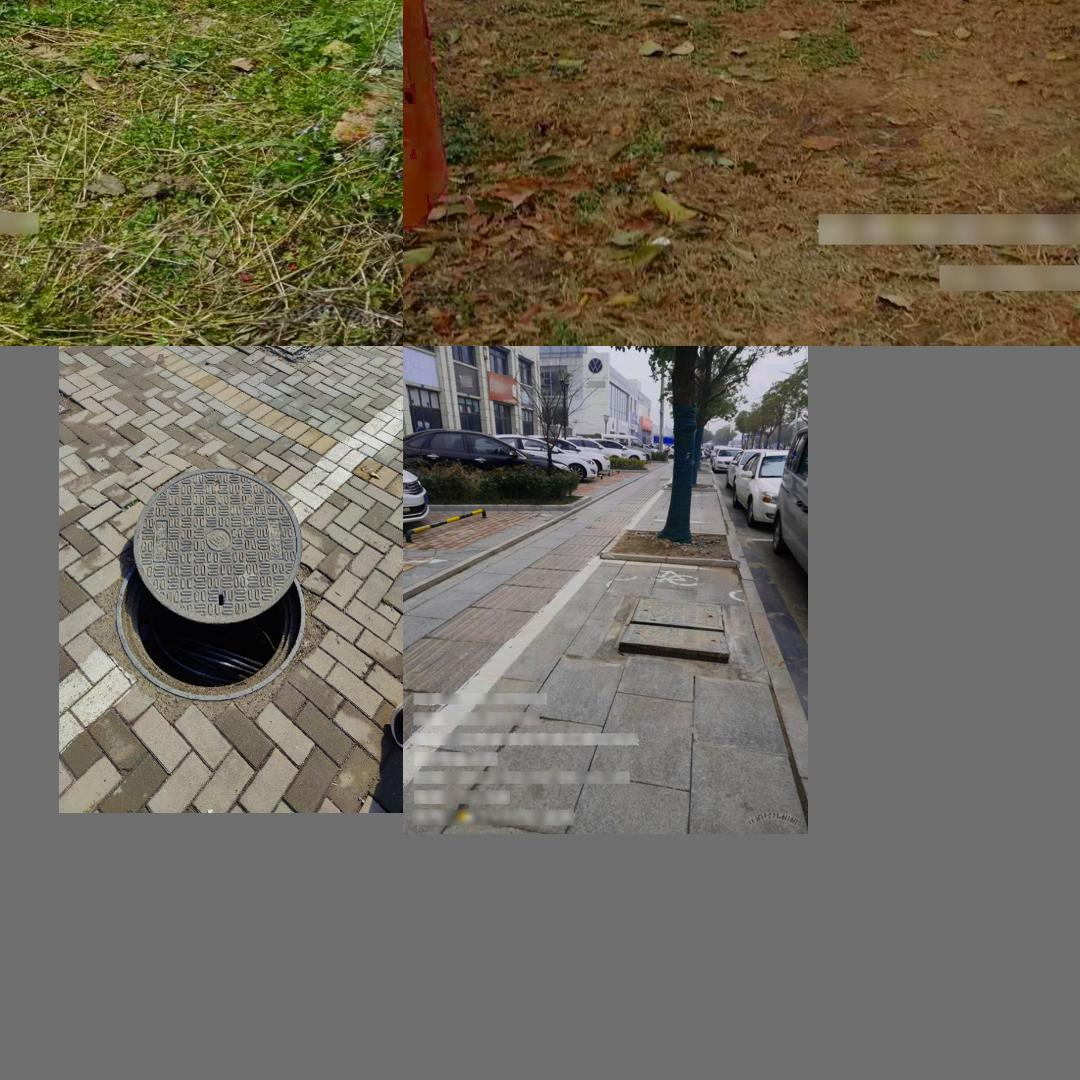uncovered: (115, 461, 314, 702), (624, 583, 736, 668)
